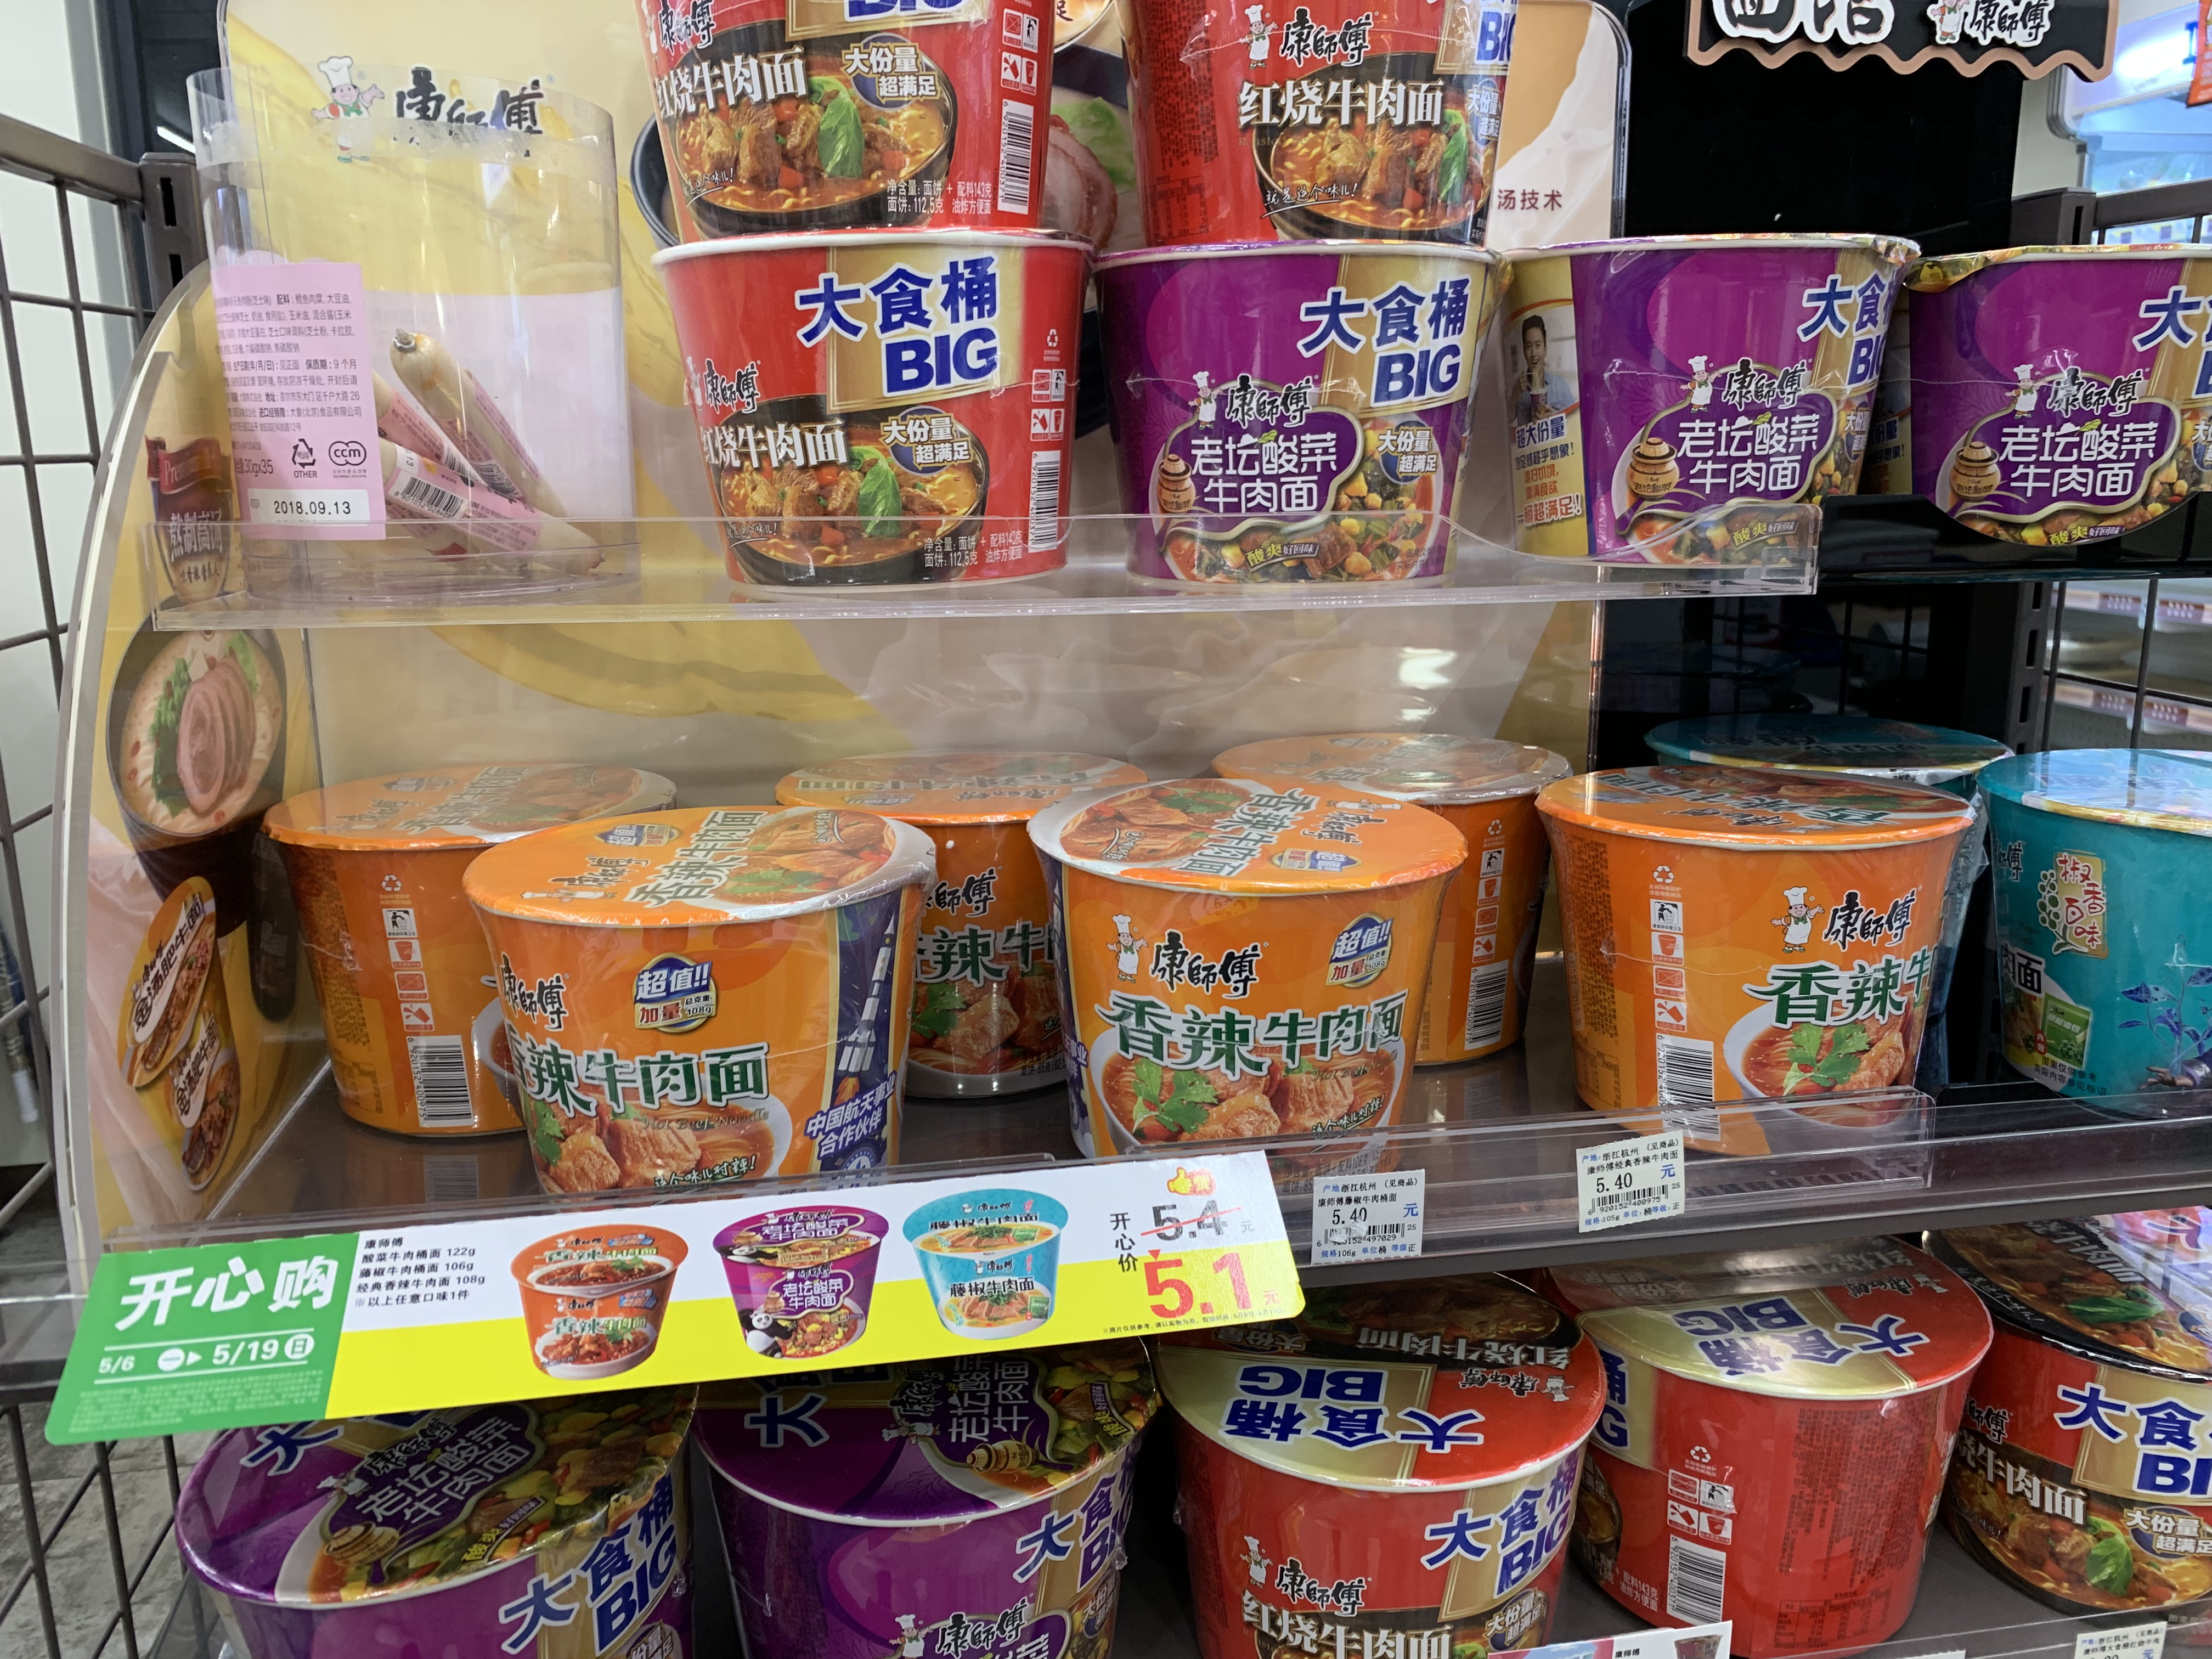xiangla: (1029, 772, 1468, 1188), (463, 805, 939, 1185), (1538, 760, 1979, 1162)
